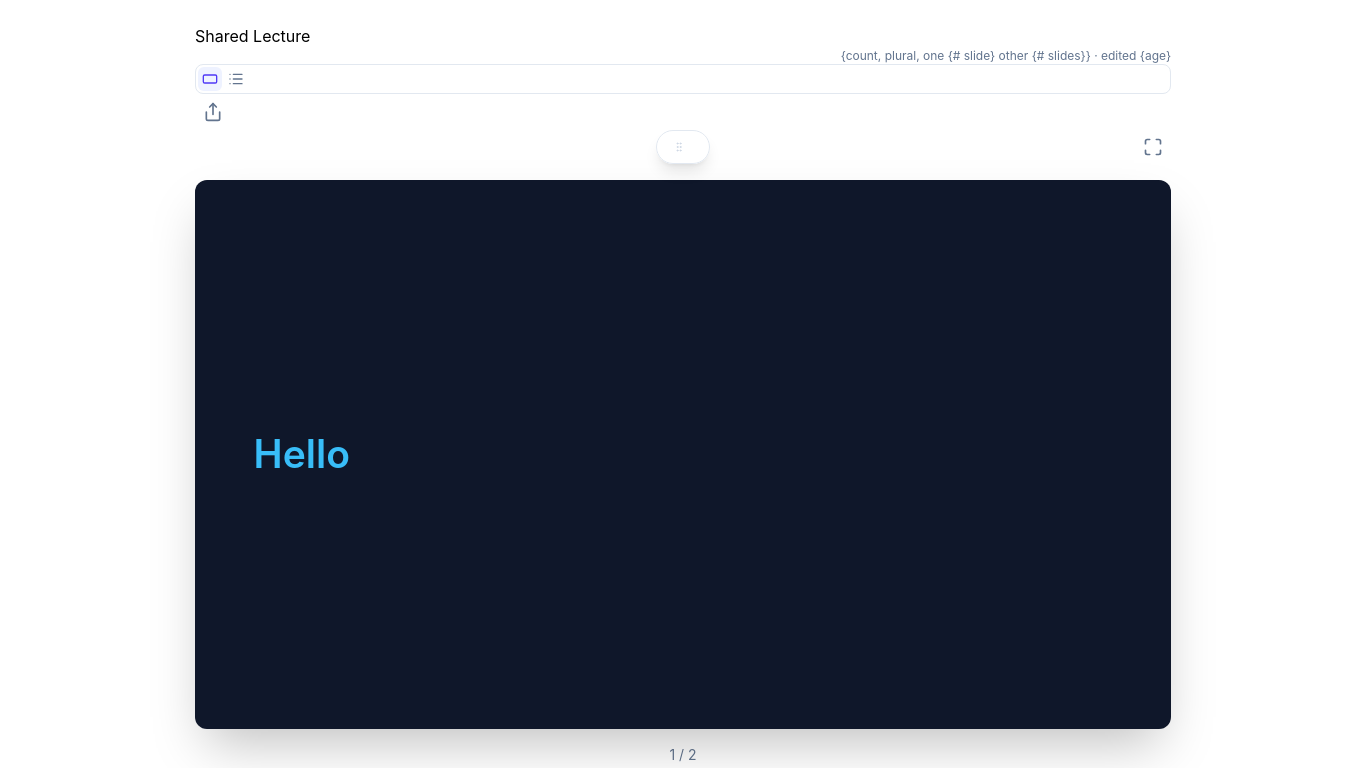
Test: DeckViewerPage view modes › carousel shows one slide; list view stacks all slides
Check: the text "Shared Lecture" is shown, box [195,24,310,48]
Check: the number of elements with test id "slide" is 1, box [195,180,1171,729]
Click the button named "List view" at (236,79), box [224,67,248,91]
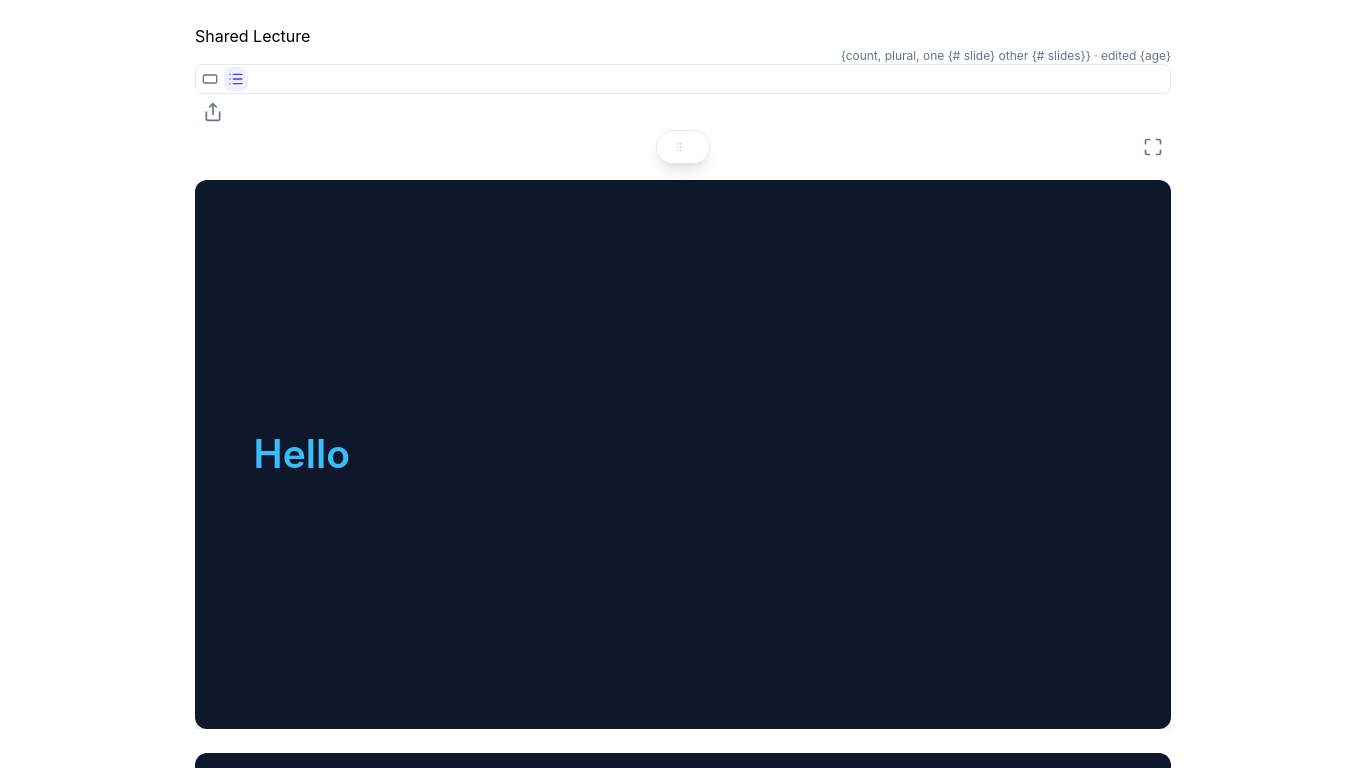
Click the button named "Carousel view" at (210,79), box [198,67,222,91]
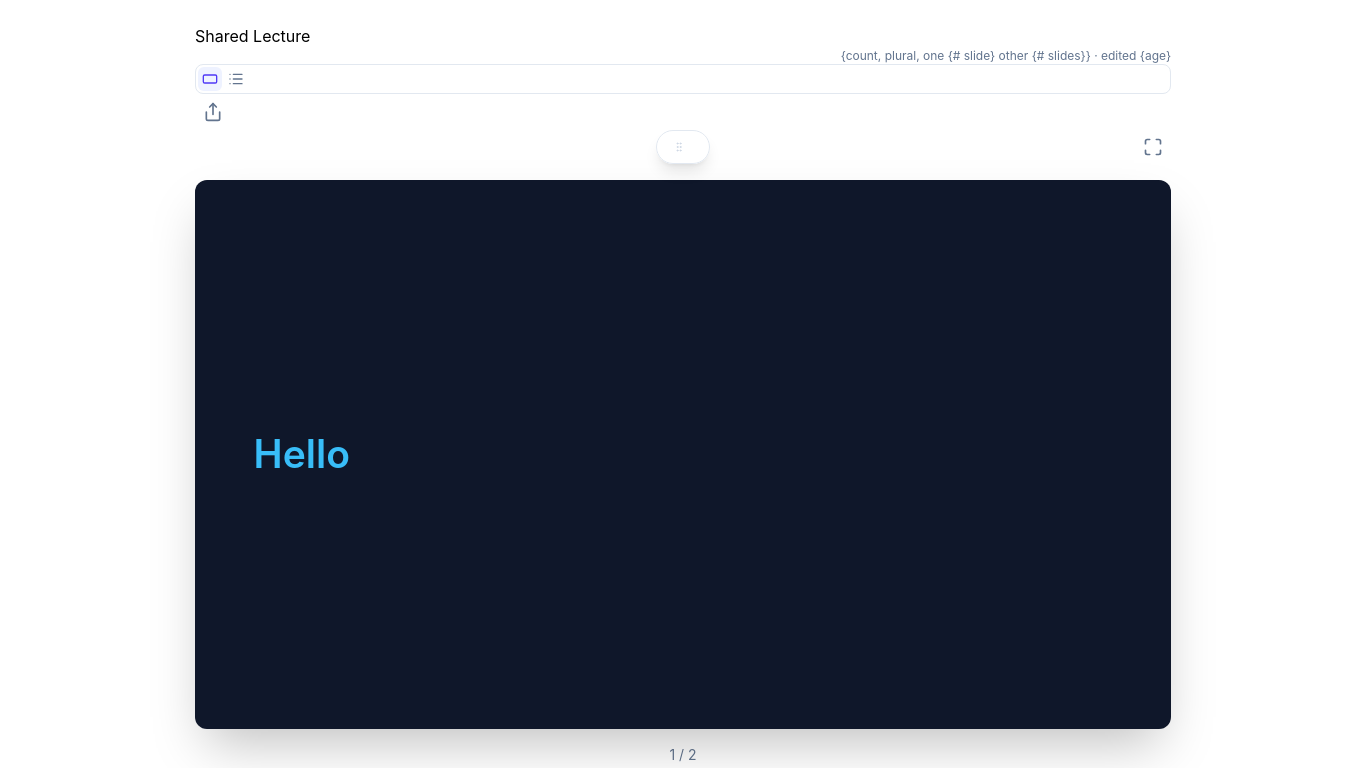
Check: the number of elements with test id "slide" is 1, box [195,180,1171,729]
